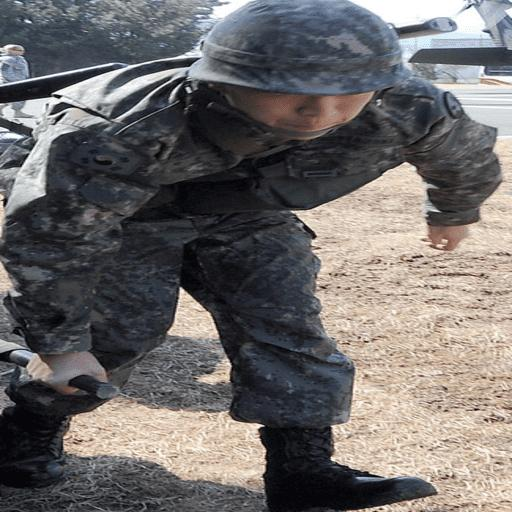korea army: (0, 0, 502, 511)
